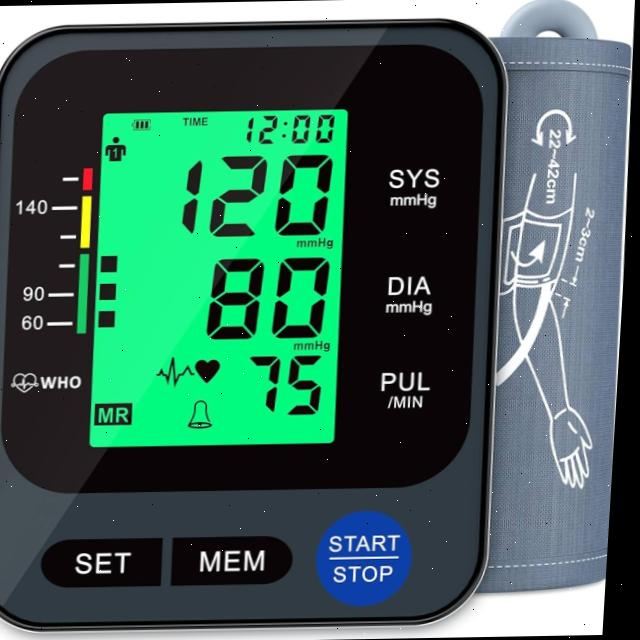dia: (203, 254, 335, 344)
pul: (246, 349, 333, 424)
ssd: (96, 103, 349, 453)
sys: (174, 145, 341, 241)
